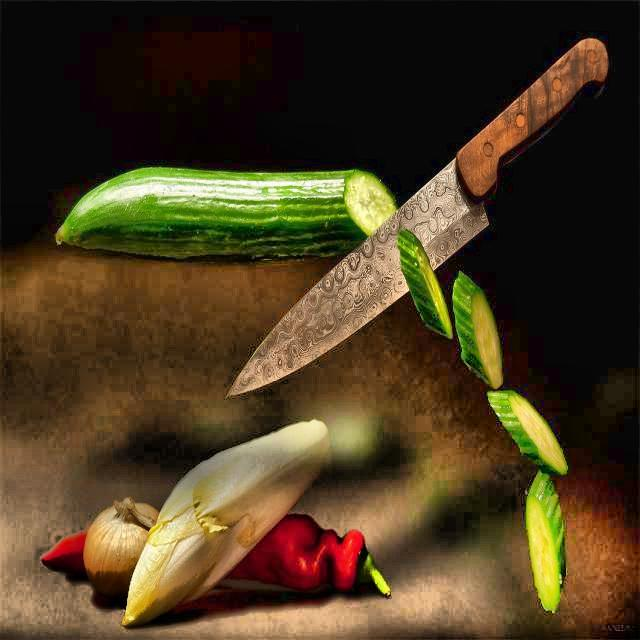knife: (228, 30, 614, 408)
